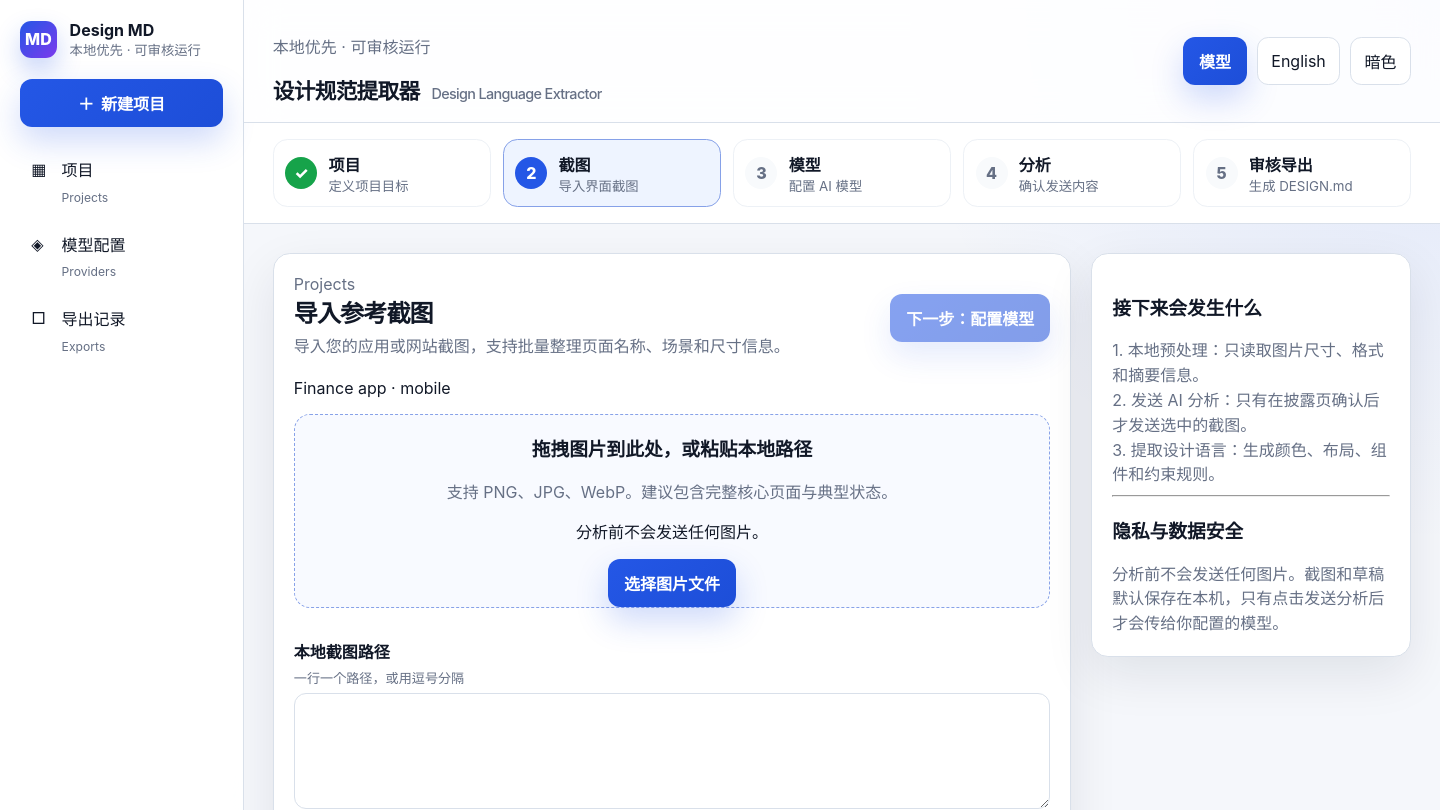
Scenario: ScreenshotManagerPage › imports screenshots and shows import errors
Type "C:/shots/home.png" into the text box named "Local screenshot paths" at (672, 751), box [294,693,1050,809]
(page scrolled)
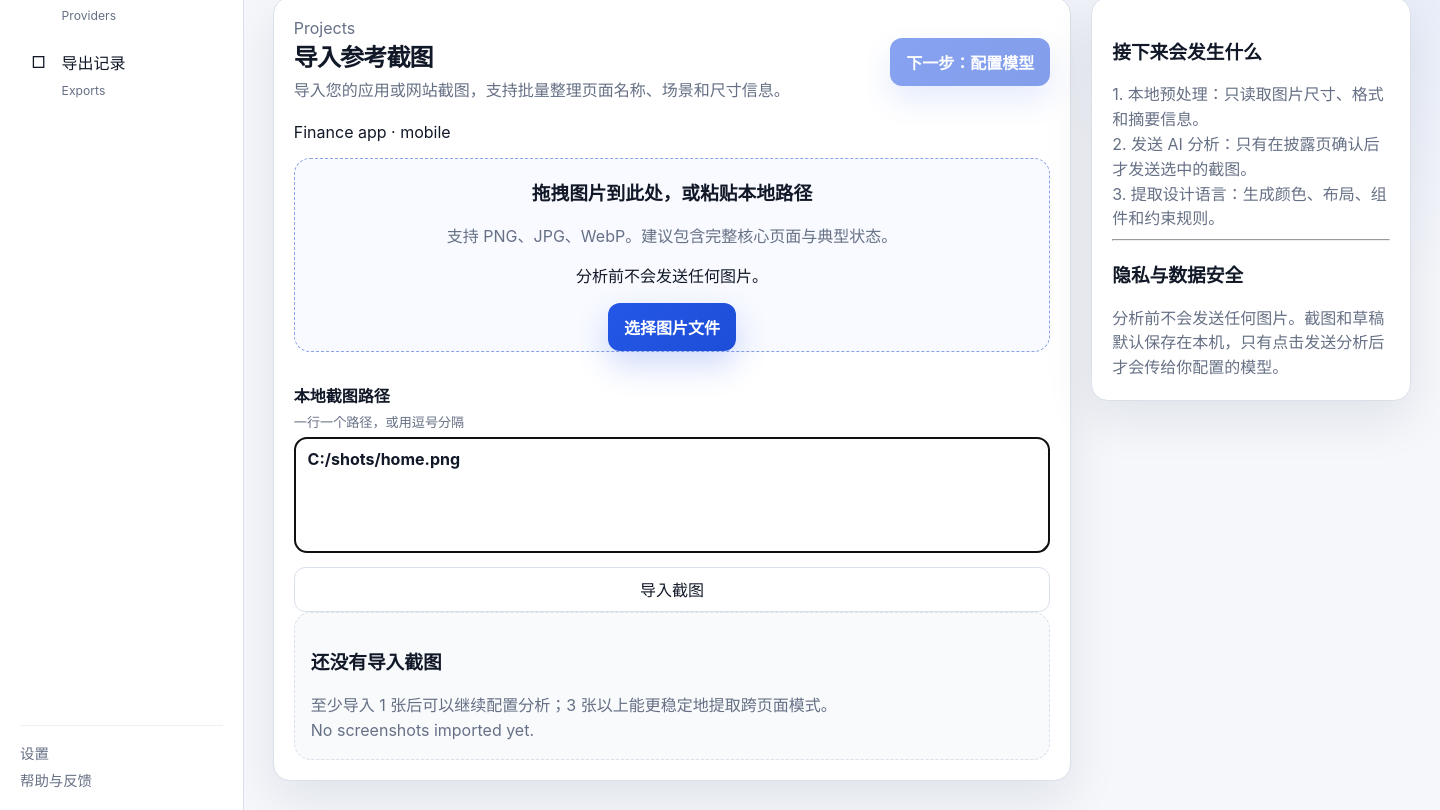
Click the button with aria-label "Import screenshots" at (672, 589), box [294,567,1050,612]
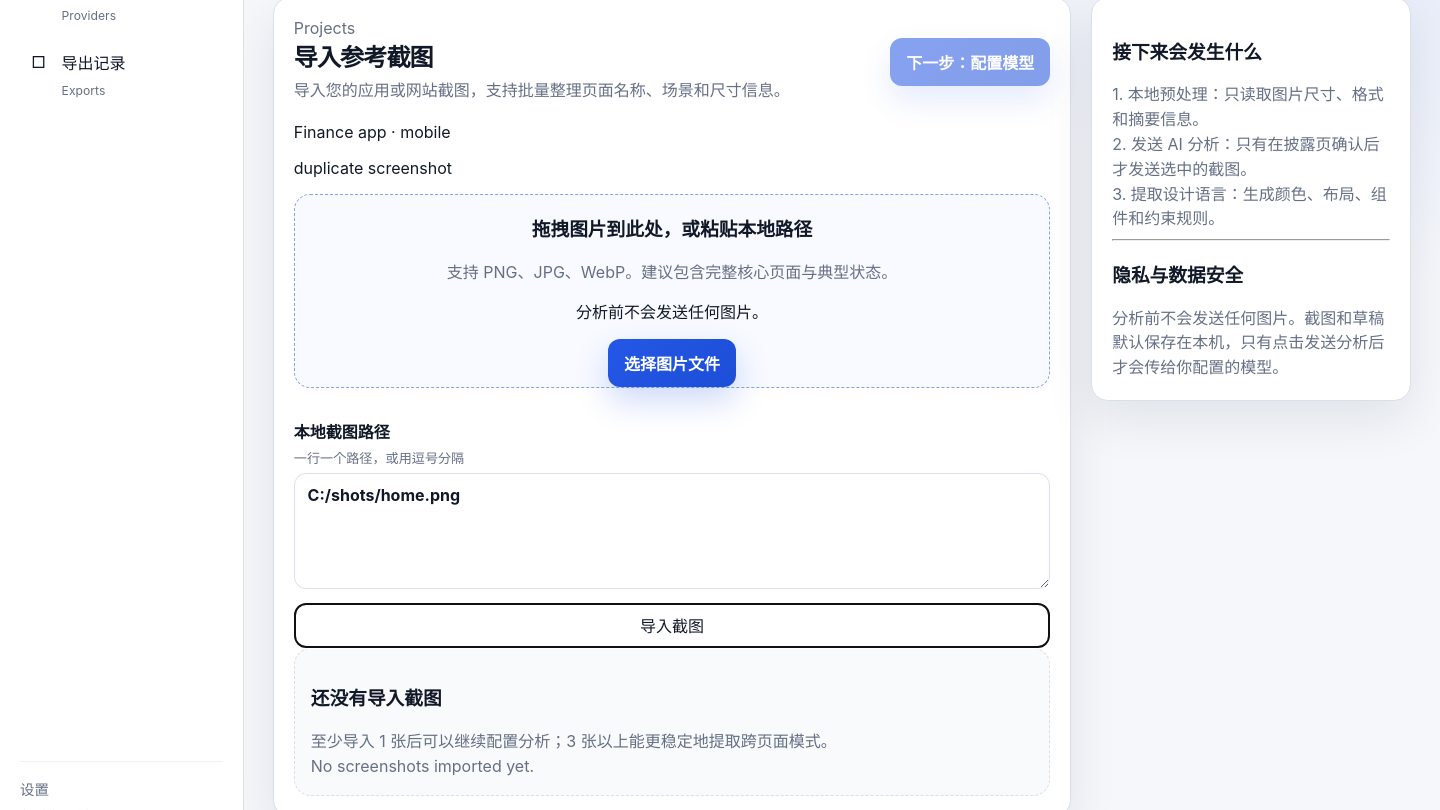
Now the text "duplicate screenshot" is shown, box [294,158,452,178]
